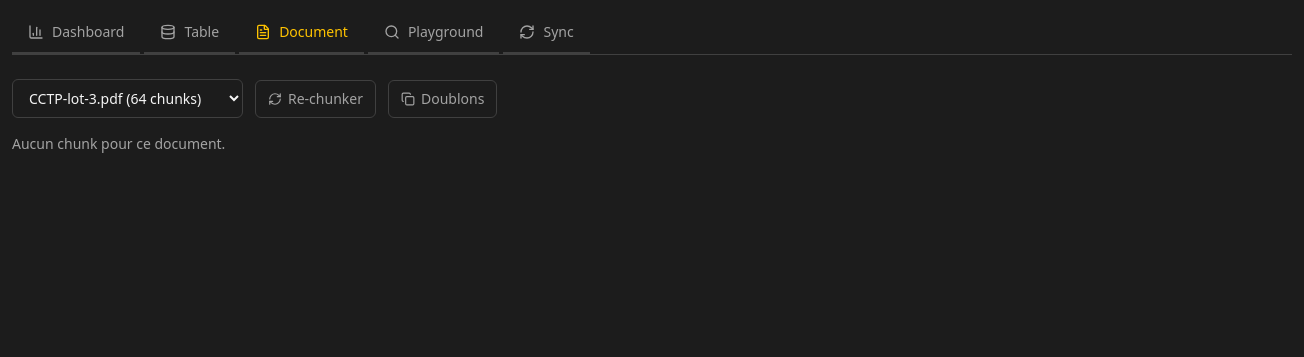
Test: AdminDashboard — a failure whose surface is gone is still reported › reports a re-chunk failure that landed after the user switched tab
Click the button "Re-chunker" at {"x": 316, "y": 98}, box [255,80,376,118]
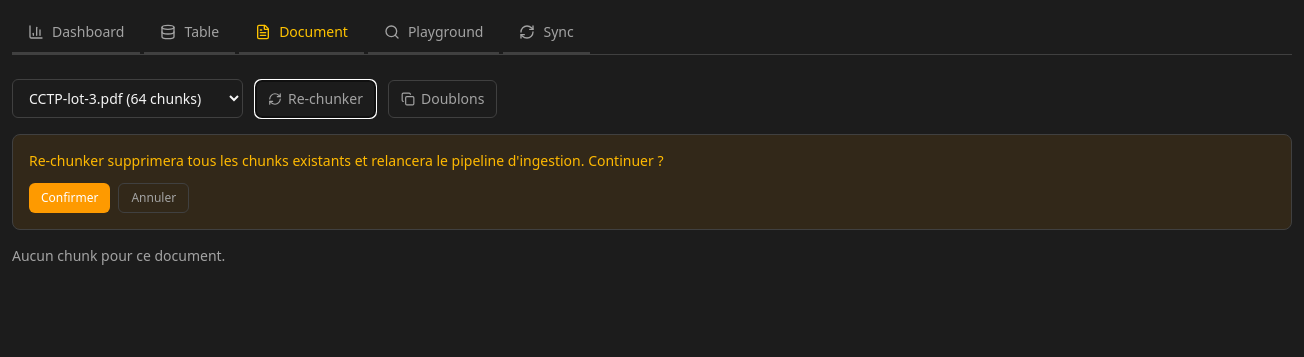
Click the button "Confirmer" at {"x": 70, "y": 198}, box [29,183,110,213]
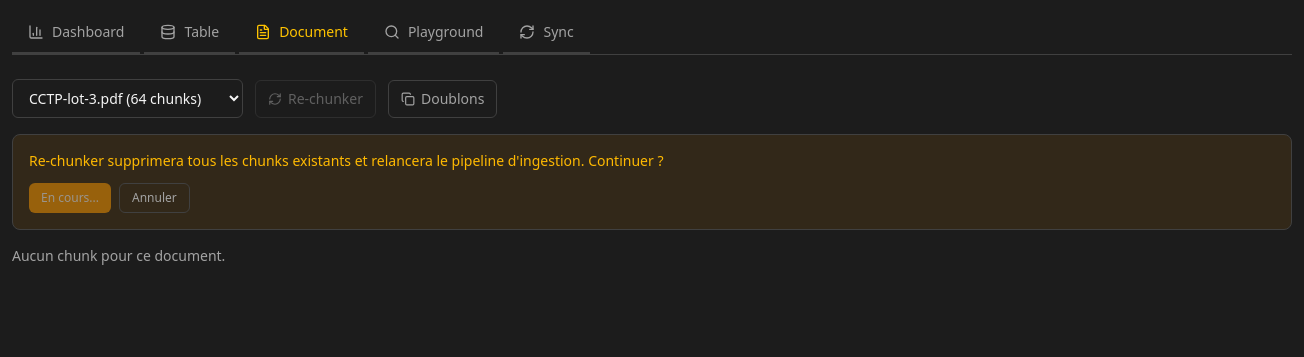
Click the tab "Table" at {"x": 190, "y": 33}, box [144,12,235,54]
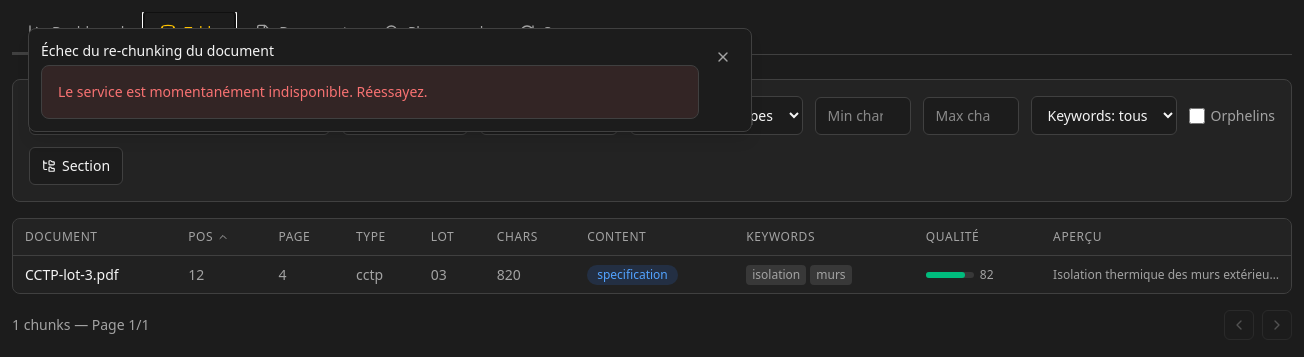
Expected: the message reads "Le service est momentanément indisponible. Réessayez.", [58,82,428,101]
